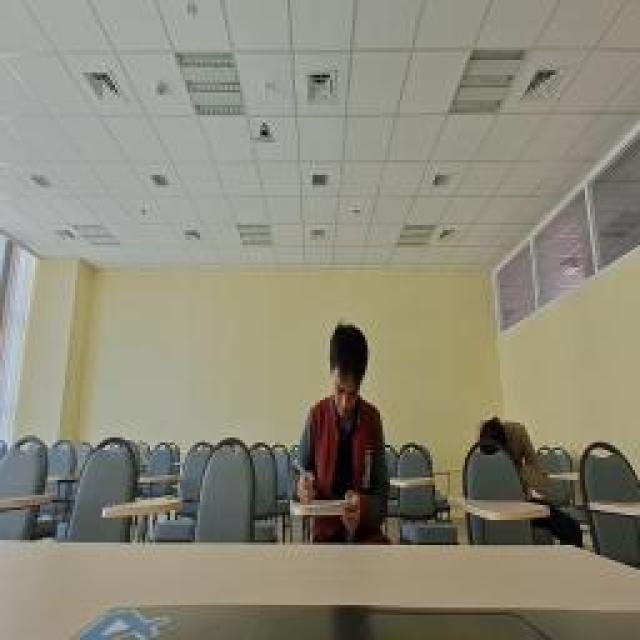sleep: (472, 412, 550, 508)
study: (298, 320, 388, 542)
